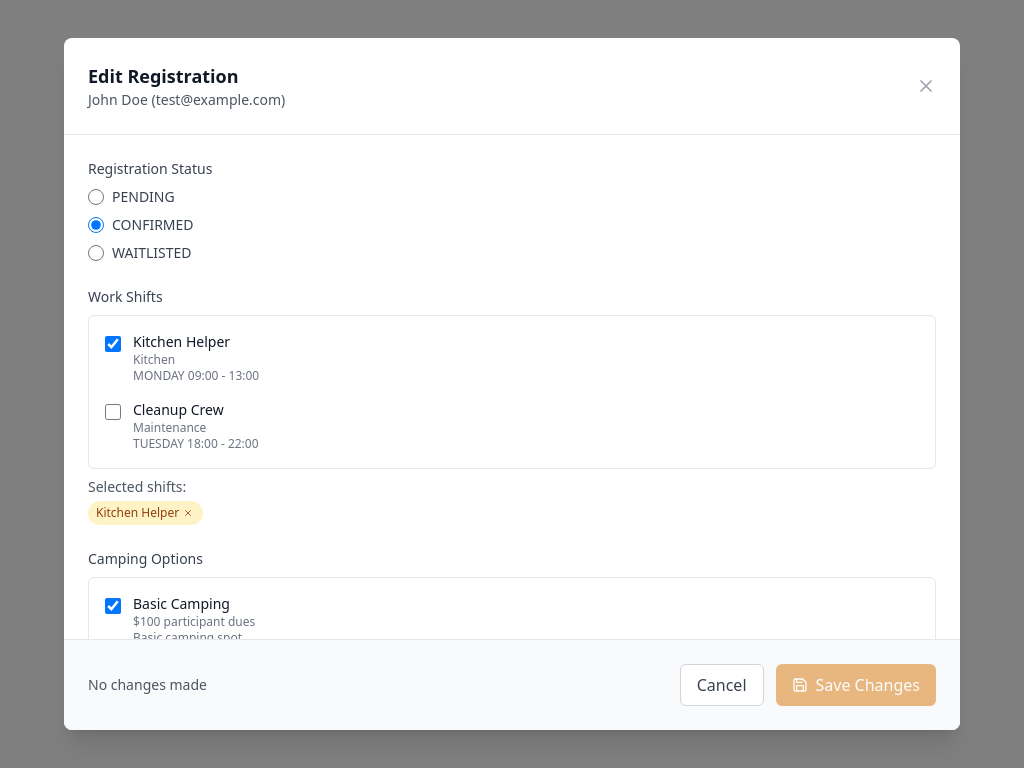
Scenario: RegistrationEditForm › Form Interactions › should handle status changes
The width and height of the screenshot is (1024, 768).
Click the radio button showing "PENDING": x=96, y=197 [88, 189, 104, 205]
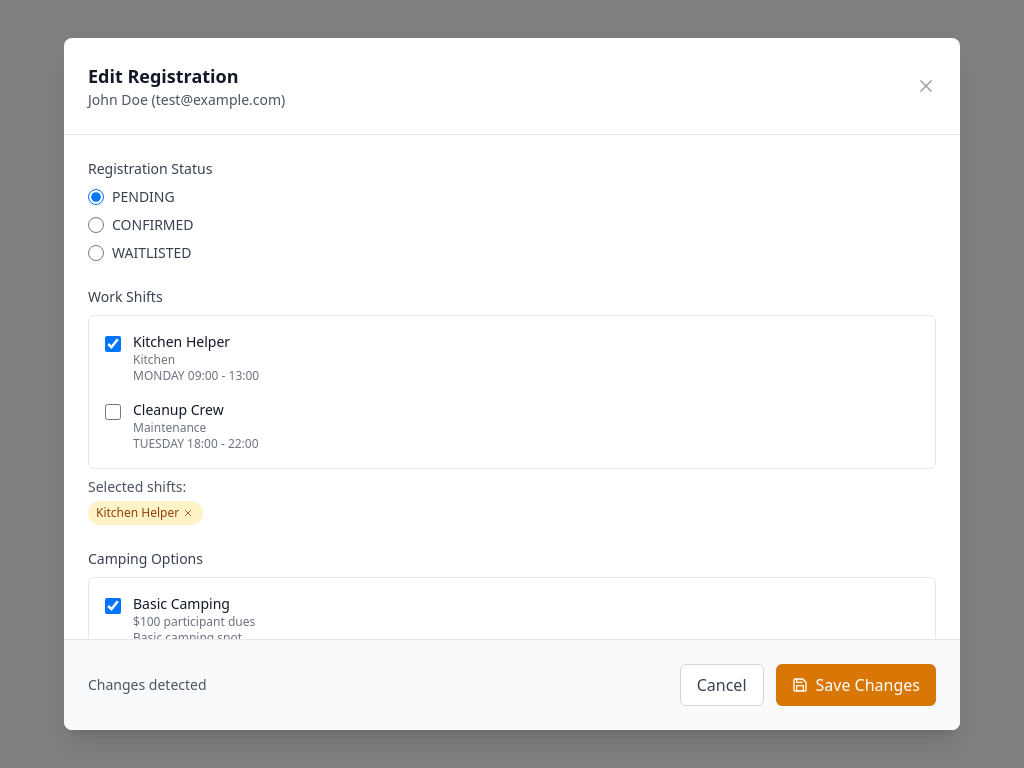
expect the radio button showing "PENDING" is checked: met, box [88, 189, 104, 205]
expect the radio button showing "CONFIRMED" is not checked: met, box [88, 217, 104, 233]
